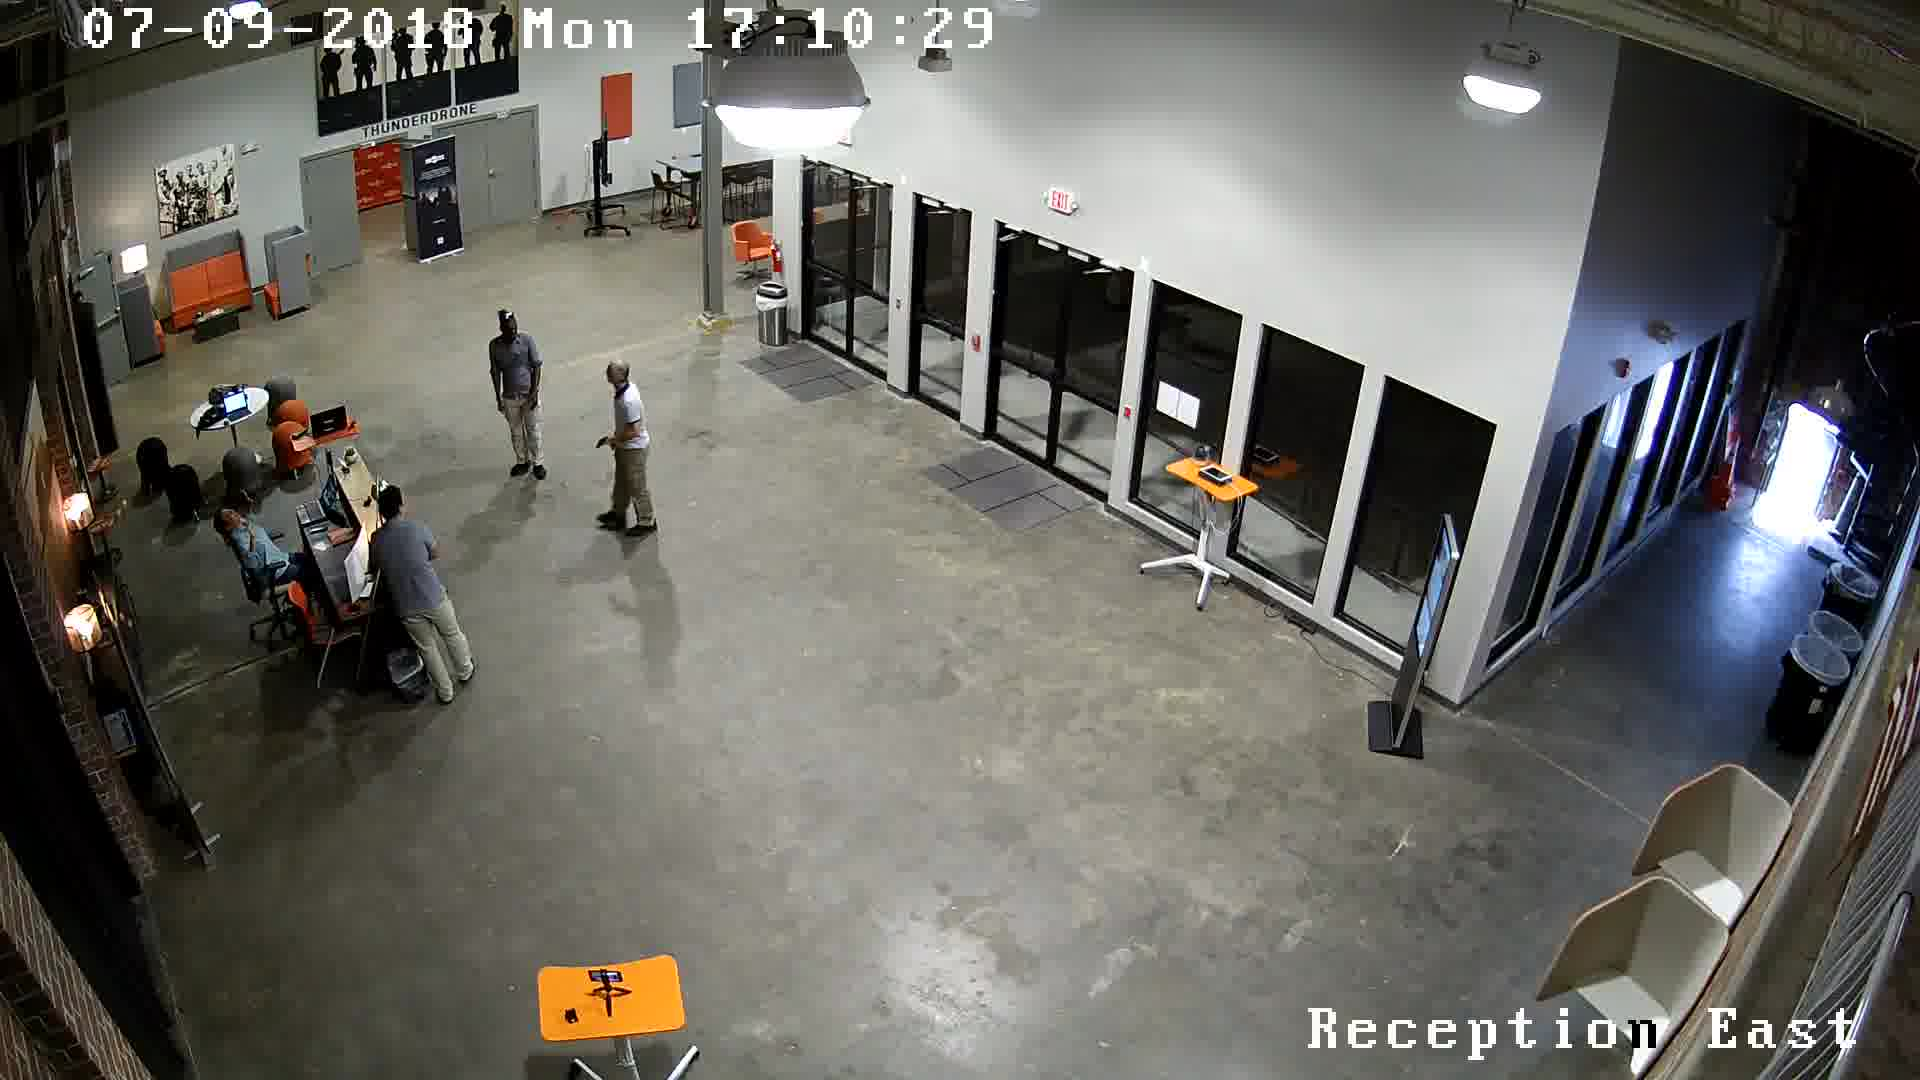pistol: (571, 421, 618, 462)
